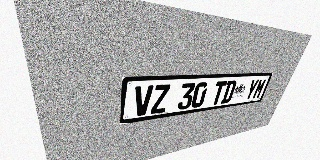0: (190, 82, 209, 108)
3: (177, 83, 196, 110)
D: (220, 80, 237, 104)
M: (252, 79, 267, 99)
T: (210, 81, 227, 105)
V: (133, 85, 154, 117)
Y: (244, 79, 260, 100)
Z: (150, 84, 170, 114)
